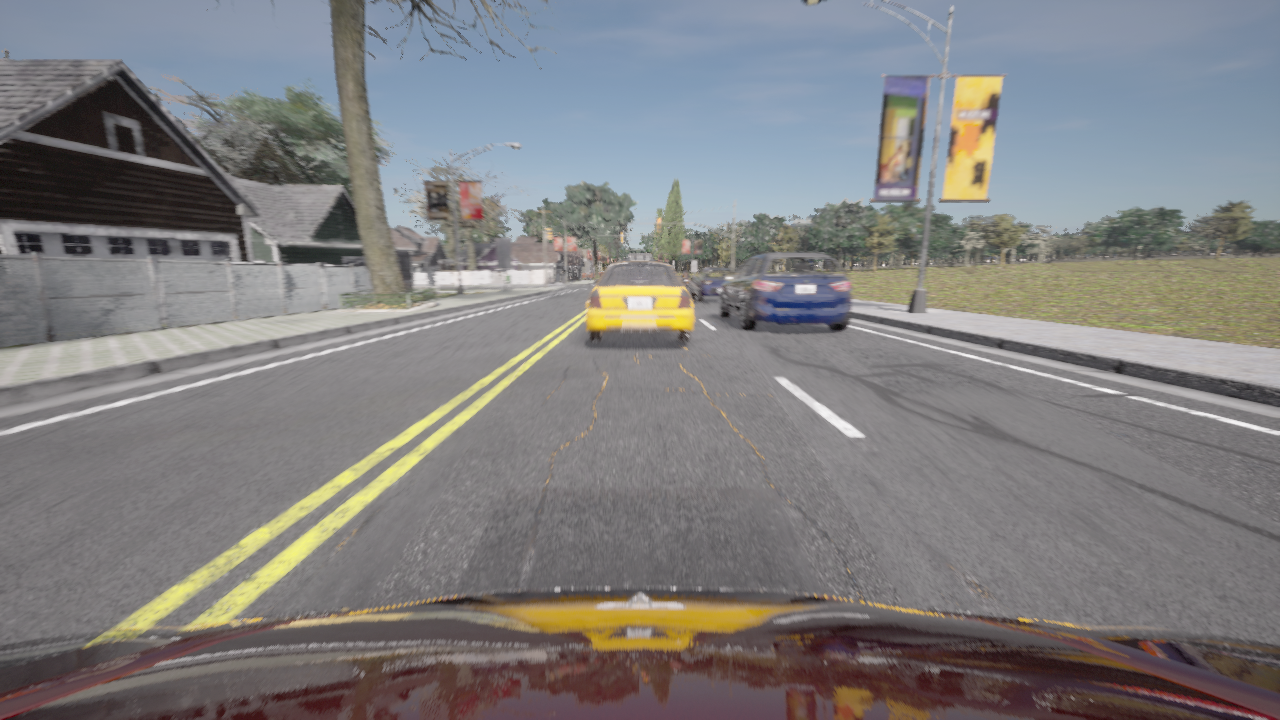cyclist: (0, 588, 1279, 719), (718, 252, 850, 330), (586, 254, 692, 341), (690, 268, 733, 303), (684, 277, 688, 288)
